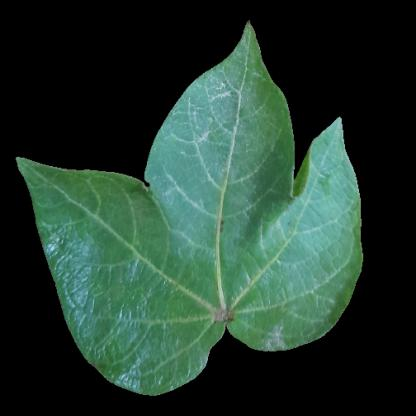healthy: (139, 193, 245, 278), (256, 196, 345, 296), (77, 284, 189, 354), (203, 77, 280, 171), (49, 173, 128, 245), (235, 293, 304, 336), (158, 135, 211, 189), (314, 147, 347, 190)
